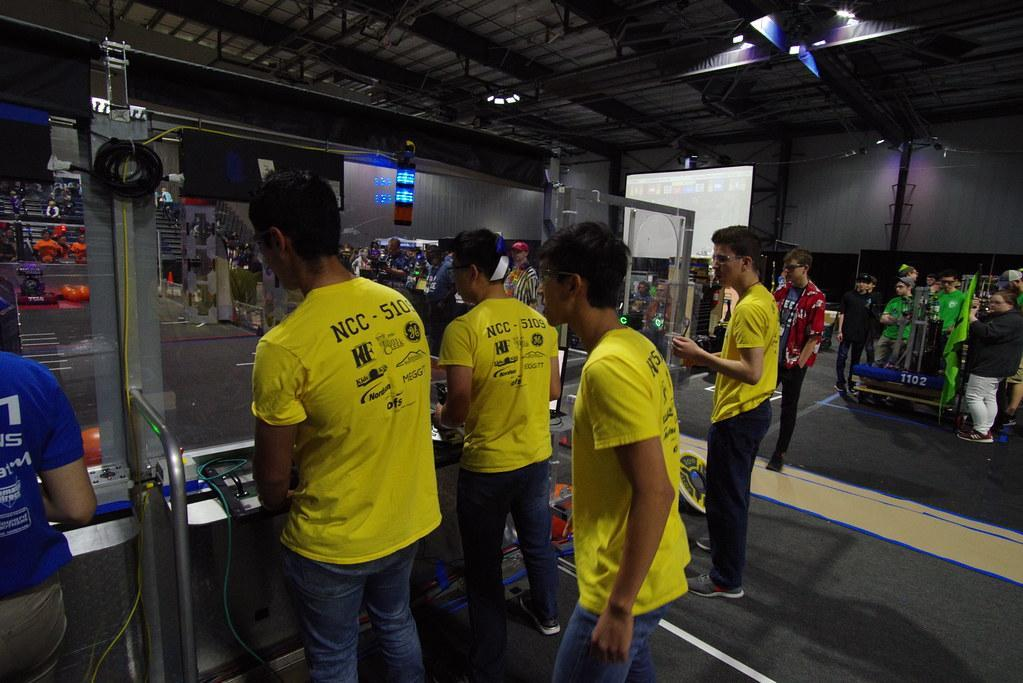robot: (852, 267, 960, 396), (9, 261, 62, 313)
